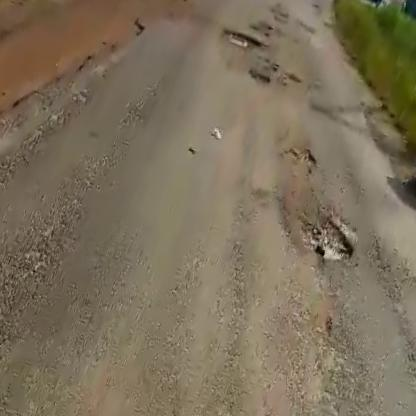pothole: (282, 200, 369, 275), (218, 22, 266, 52), (241, 64, 274, 90)
